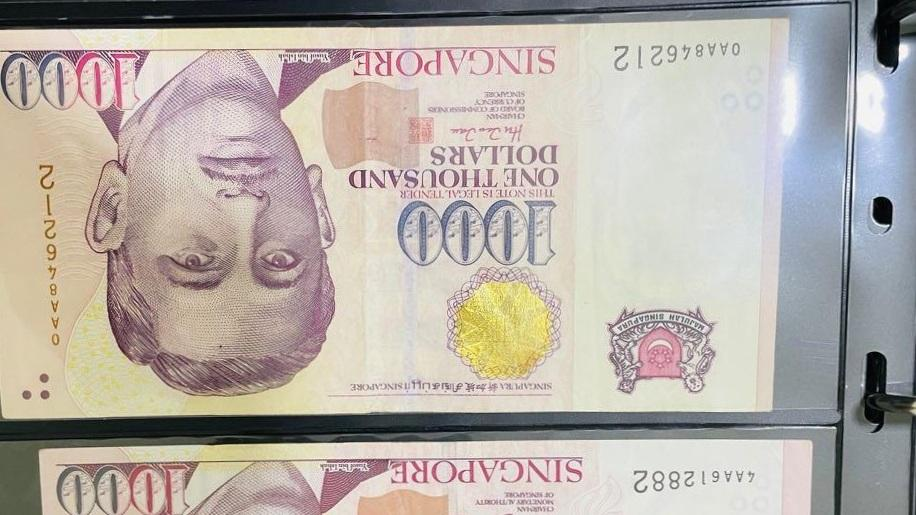1000SingaporeDollar: (0, 31, 772, 410)
